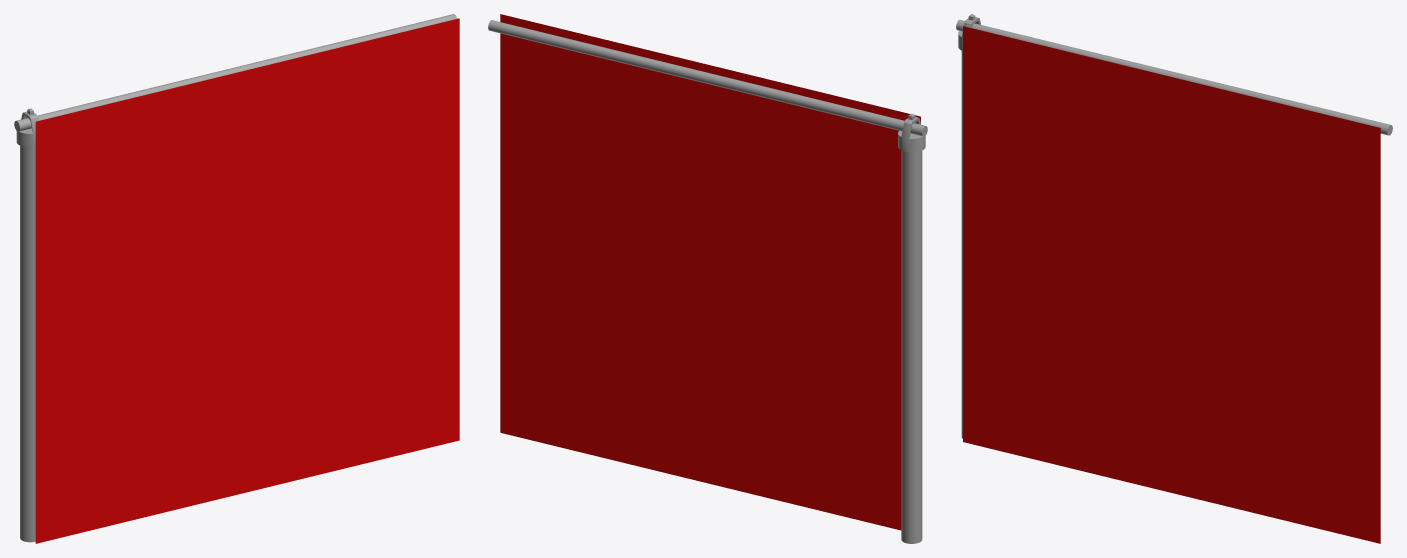
File: Fence.fbx
3 views of the same model, side by side, from view 1: azimuth 30°, elevation 25°; view 2: azimuth 150°, elevation 25°; view 3: azimuth 330°, elevation 25° (orthographic).
Parts seen in each view (by area): view 1: fence, metalFrame; view 2: fence, metalFrame; view 3: fence, metalFrame.
Part boxes in pixels (x1,y1,x2,y2): fence: (35,18,459,543); metalFrame: (14,14,457,542); fence: (500,14,920,530); metalFrame: (488,20,927,543); fence: (963,26,1380,543); metalFrame: (956,14,1392,438).
Bounding box in the file's own units: 3.6 × 3.37 × 0.2007.
